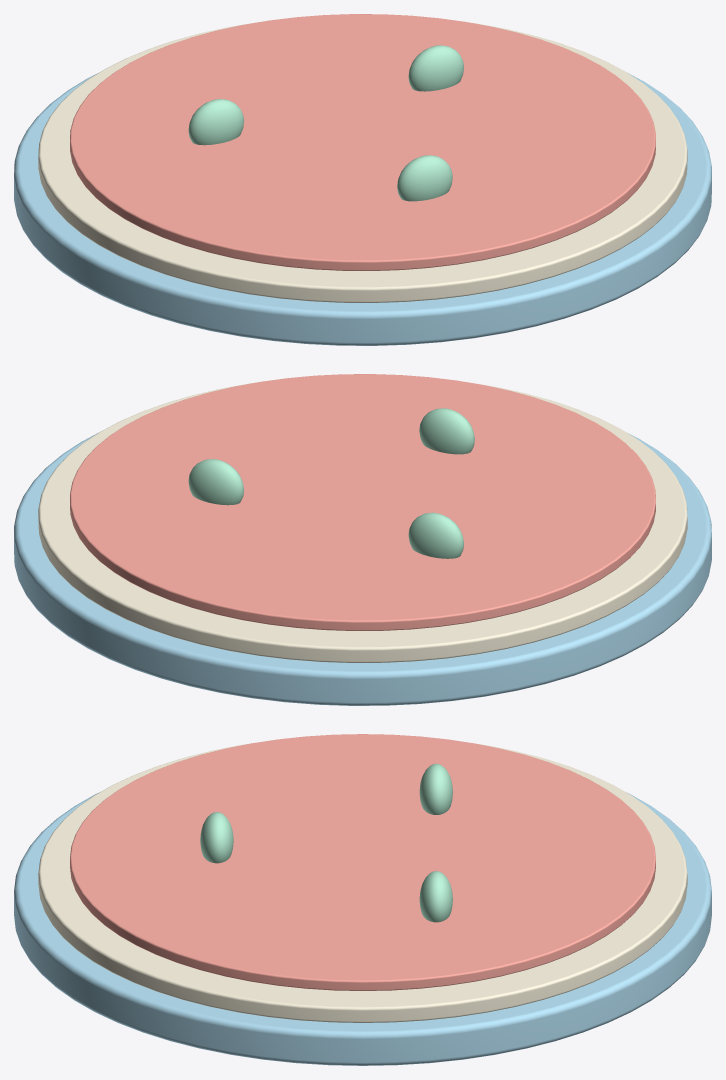
File: platform_candy_round_large.glb
3 renders of one model, top to bottom at view 1: azimuth 30°, elevation 25°; view 2: azimuth 150°, elevation 25°; view 3: azimuth 270°, elevation 25°, orthographic.
Visible parts, largest first — view 1: CoralRoundCakeTop, CloudRoundBase, CreamRoundRim, MintGrassTuft2, MintGrassTuft0, MintGrassTuft1; view 2: CoralRoundCakeTop, CloudRoundBase, CreamRoundRim, MintGrassTuft2, MintGrassTuft0, MintGrassTuft1; view 3: CoralRoundCakeTop, CloudRoundBase, CreamRoundRim, MintGrassTuft0, MintGrassTuft2, MintGrassTuft1.
Part boxes in pixels (left/top/right/bottom): CoralRoundCakeTop: left=70, top=14, right=655, bottom=270; CloudRoundBase: left=14, top=73, right=711, bottom=345; CreamRoundRim: left=38, top=23, right=687, bottom=302; MintGrassTuft2: left=397, top=155, right=452, bottom=201; MintGrassTuft0: left=408, top=45, right=463, bottom=91; MintGrassTuft1: left=188, top=99, right=243, bottom=145; CoralRoundCakeTop: left=70, top=374, right=655, bottom=630; CloudRoundBase: left=14, top=433, right=711, bottom=705; CreamRoundRim: left=38, top=383, right=687, bottom=662; MintGrassTuft2: left=419, top=408, right=474, bottom=454; MintGrassTuft0: left=188, top=459, right=244, bottom=505; MintGrassTuft1: left=408, top=512, right=463, bottom=558; CoralRoundCakeTop: left=70, top=734, right=655, bottom=990; CloudRoundBase: left=14, top=793, right=711, bottom=1065; CreamRoundRim: left=38, top=744, right=687, bottom=1022; MintGrassTuft0: left=419, top=871, right=452, bottom=922; MintGrassTuft2: left=200, top=812, right=233, bottom=863; MintGrassTuft1: left=419, top=763, right=452, bottom=814.
Size of the model in its own units: 5 by 0.79 by 5.
